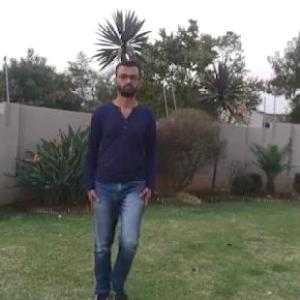follow: (88, 55, 145, 296)
